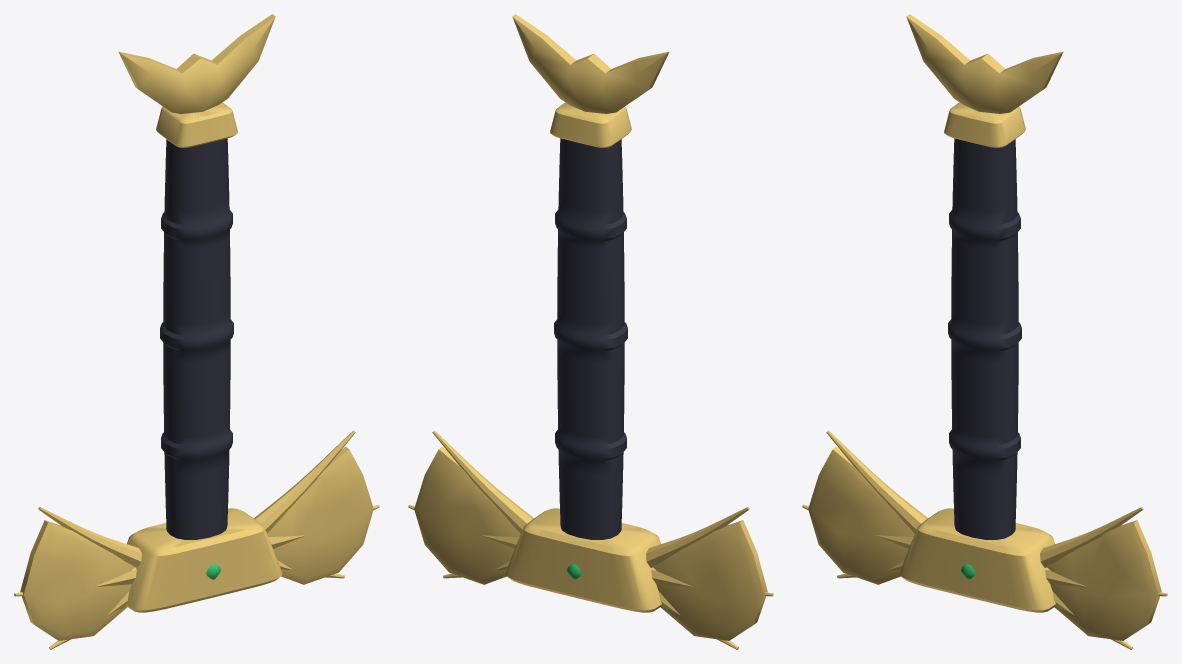
The model's file is LeviathanHiltGame.fbx.
3 renders of one model, left to right at view 1: azimuth 30°, elevation 25°; view 2: azimuth 150°, elevation 25°; view 3: azimuth 330°, elevation 25°, orthographic.
Visible parts, largest first — view 1: Guard, Grip, Pommel; view 2: Guard, Grip, Pommel; view 3: Guard, Grip, Pommel.
Boxes of the visible parts, bbox=[...] form: Guard: bbox=[14, 430, 379, 649]; Grip: bbox=[160, 138, 233, 539]; Pommel: bbox=[118, 14, 275, 147]; Guard: bbox=[408, 430, 773, 649]; Grip: bbox=[554, 138, 627, 539]; Pommel: bbox=[512, 14, 669, 147]; Guard: bbox=[802, 430, 1167, 649]; Grip: bbox=[948, 138, 1021, 539]; Pommel: bbox=[906, 14, 1063, 147].
Bounding box in the file's own units: 1.04 × 1.58 × 0.184.
